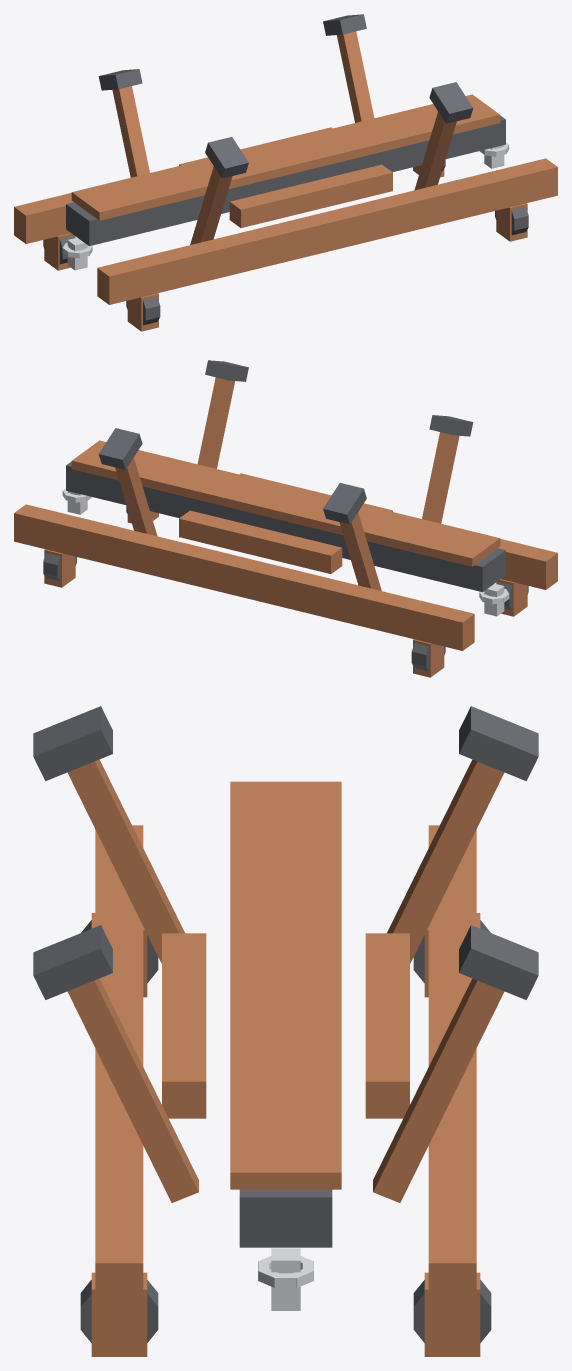
File: shipyard-and-dry-dock-shipyard-and-dry-dock-launch-cra-3875da9f__37968.glb
The picture shows the model from 3 angles, top to bottom: view 1: azimuth 30°, elevation 25°; view 2: azimuth 150°, elevation 25°; view 3: azimuth 270°, elevation 25°; orthographic projection. The views are drawn at different scales.
Parts seen in each view (by area): view 1: shipyard-and-dry-dock-launch-cradle; view 2: shipyard-and-dry-dock-launch-cradle; view 3: shipyard-and-dry-dock-launch-cradle.
Part boxes in pixels (left/top/right/bottom): shipyard-and-dry-dock-launch-cradle: left=14, top=14, right=557, bottom=331; shipyard-and-dry-dock-launch-cradle: left=14, top=360, right=557, bottom=677; shipyard-and-dry-dock-launch-cradle: left=33, top=706, right=538, bottom=1356.
Bounding box in the file's own units: 5.6 × 2.03 × 2.73.
